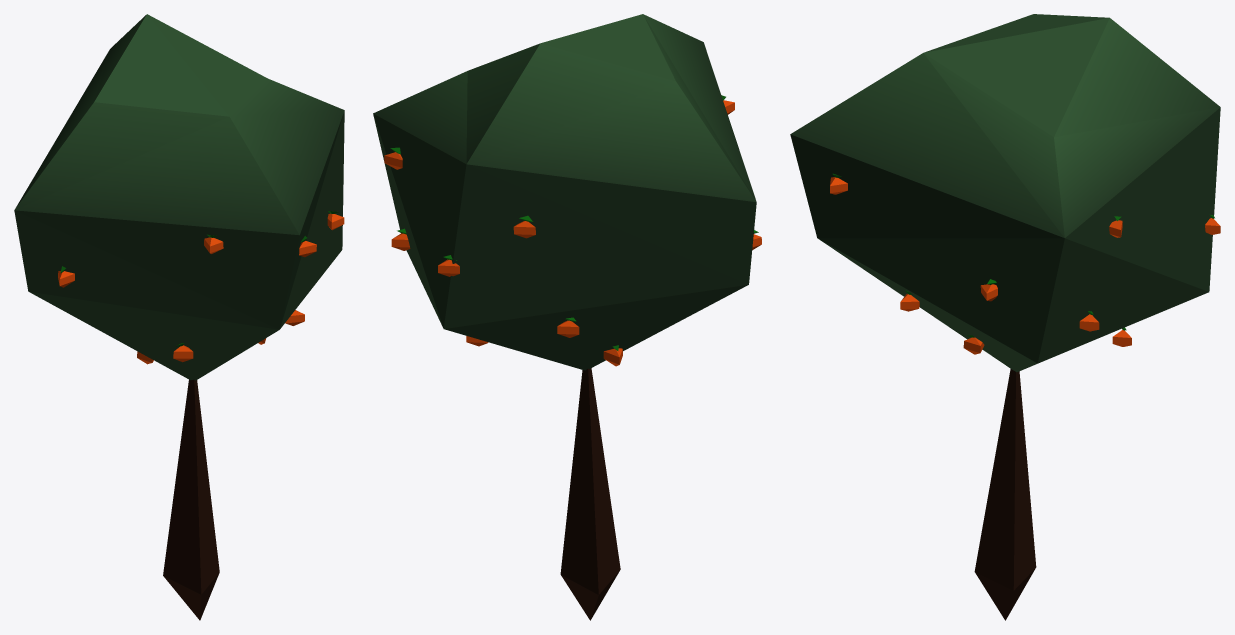
File: c_tree_orange_aa.fbx
3 views of the same model, side by side, from view 1: azimuth 30°, elevation 25°; view 2: azimuth 150°, elevation 25°; view 3: azimuth 270°, elevation 25° (orthographic). The views are drawn at different scales.
Parts seen in each view (by area): view 1: c_tree_orange_aa; view 2: c_tree_orange_aa; view 3: c_tree_orange_aa.
Boxes of the visible parts, x1,y1,x2,y2 form: c_tree_orange_aa: (14, 14, 344, 620); c_tree_orange_aa: (373, 14, 761, 620); c_tree_orange_aa: (790, 14, 1220, 620).
Size of the model in its own units: 3.5 by 5.57 by 3.61.
